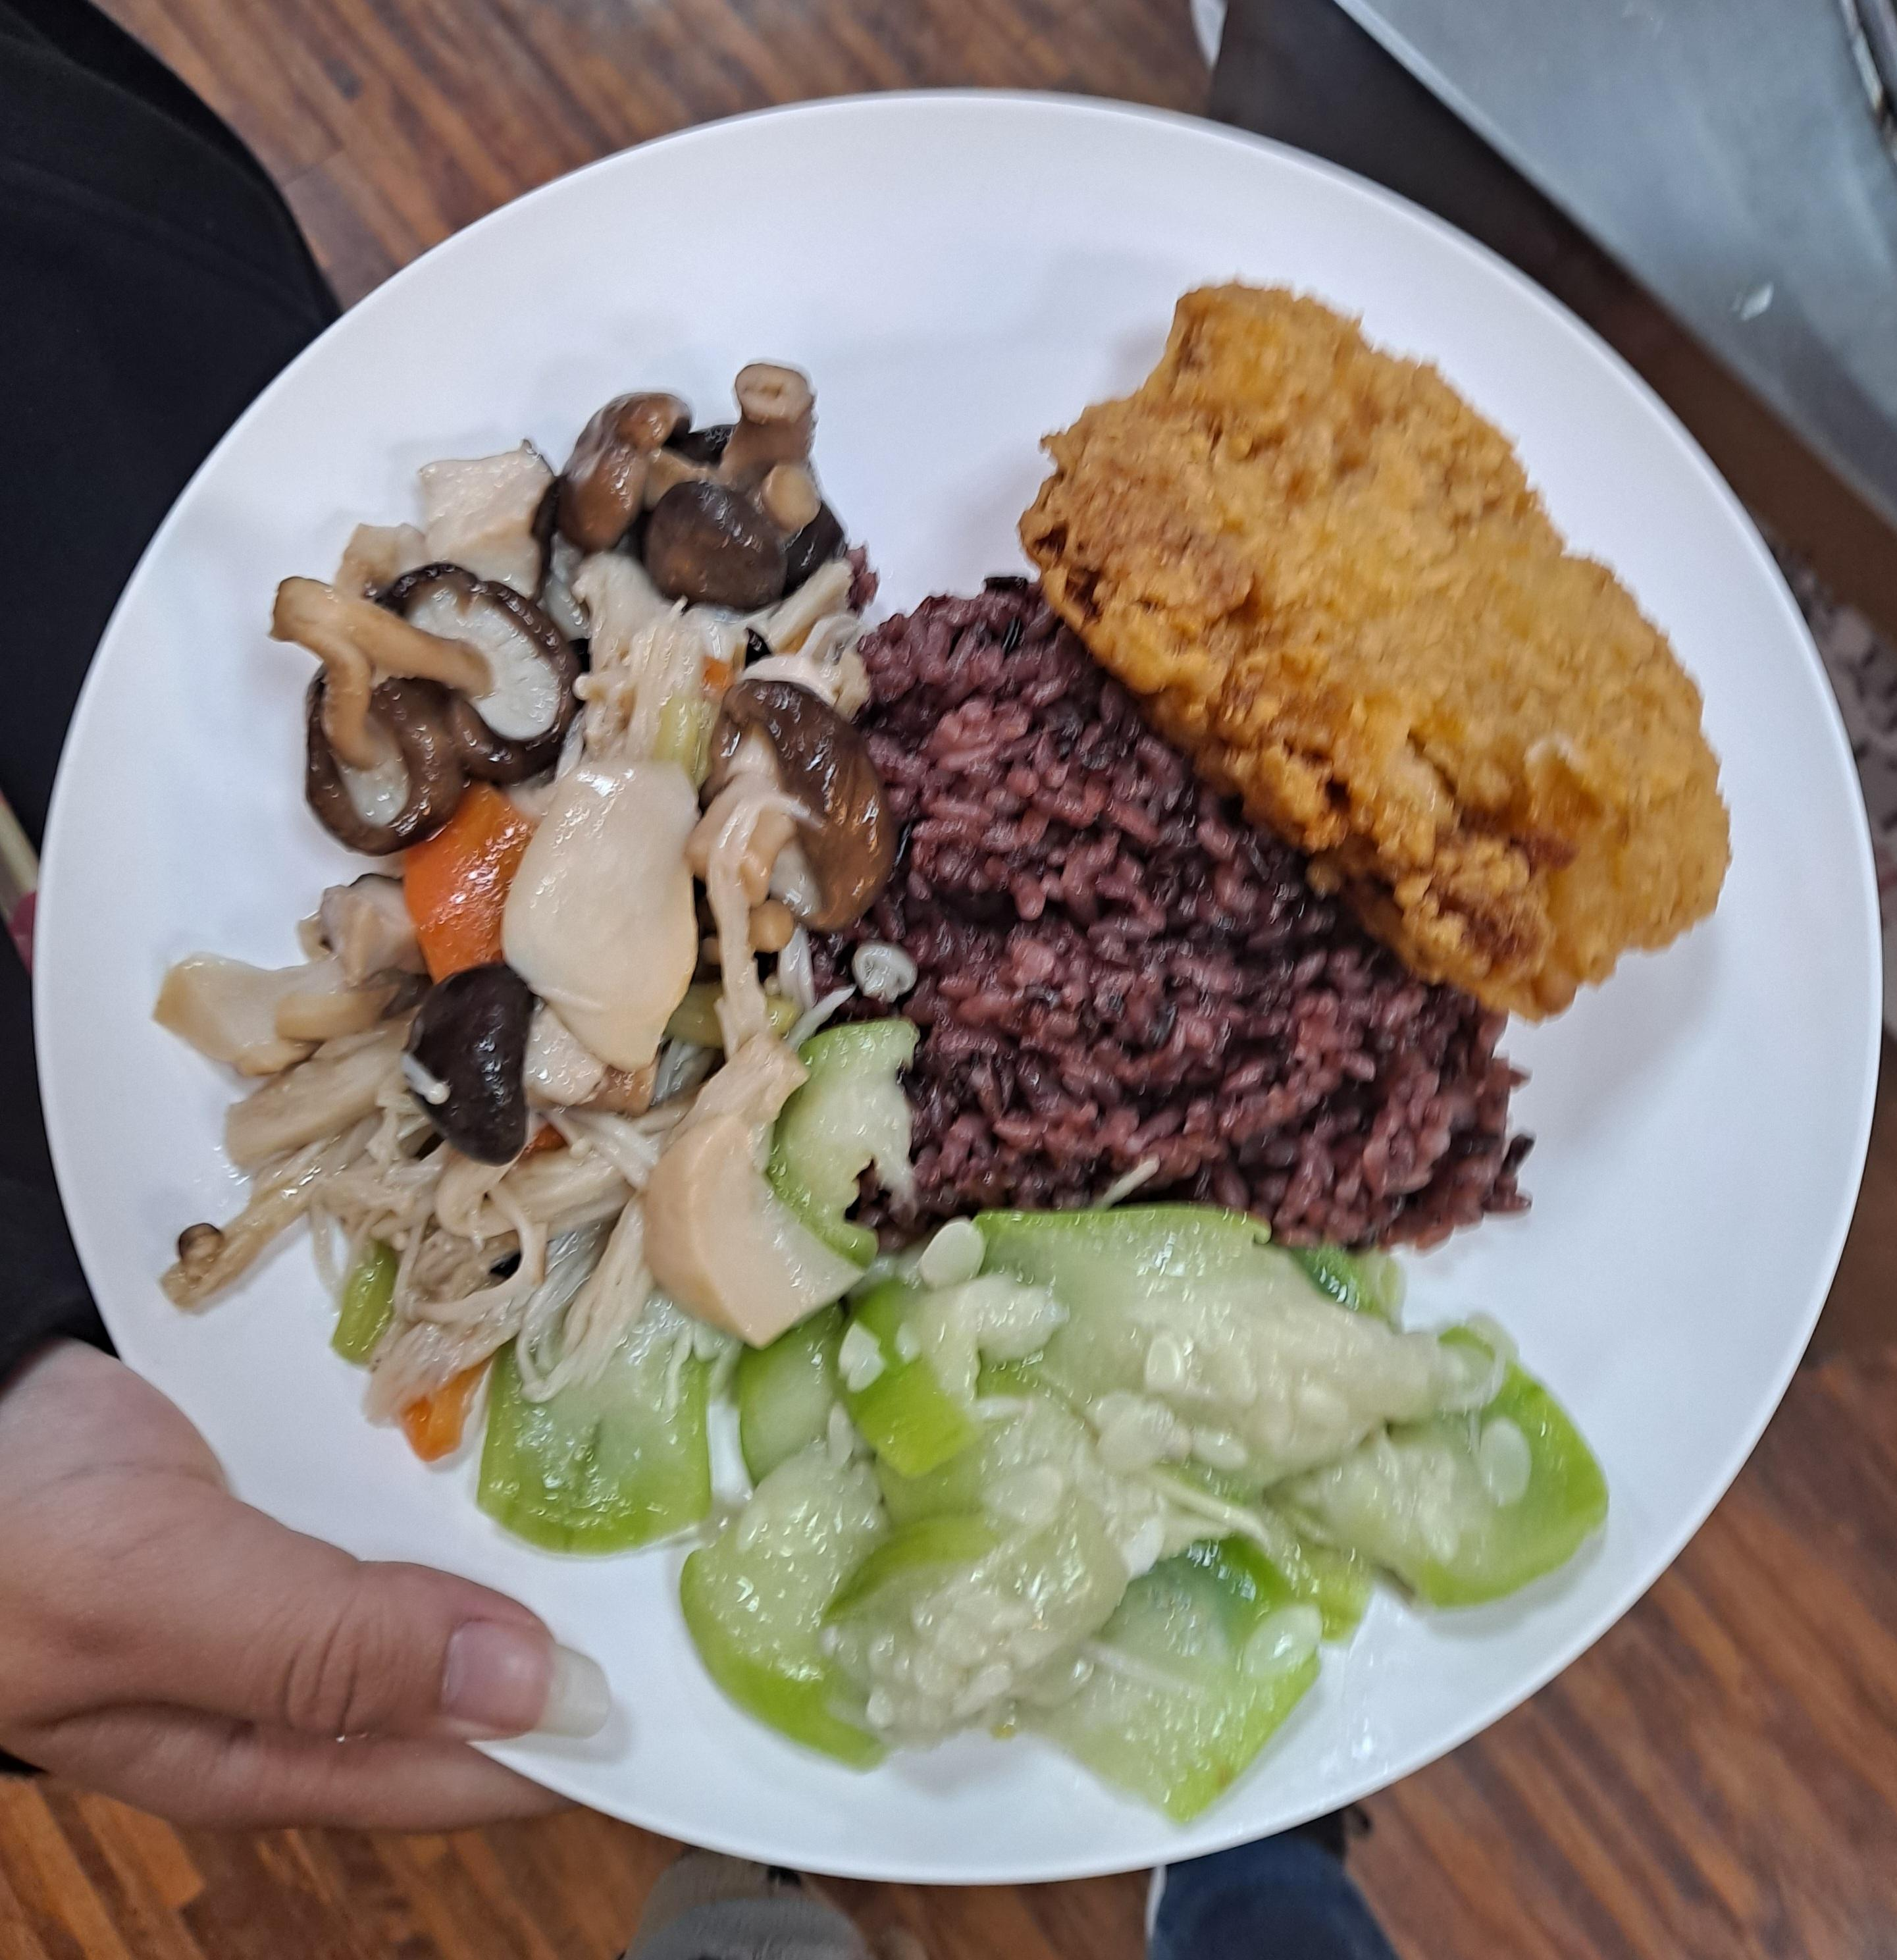big fried chicken leg: (30, 56, 1897, 1841)
braised fish: (840, 577, 1540, 1239)
braised fish fillet: (520, 999, 1654, 1808), (147, 343, 905, 1365)
braised pork: (1011, 222, 1748, 1013)
